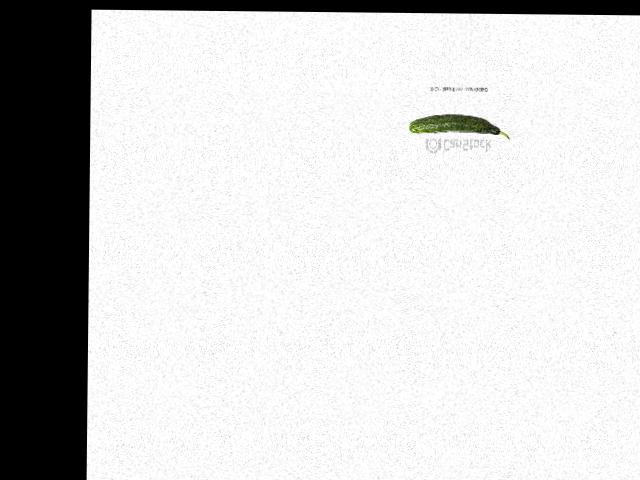cucumber: (409, 113, 510, 138)
